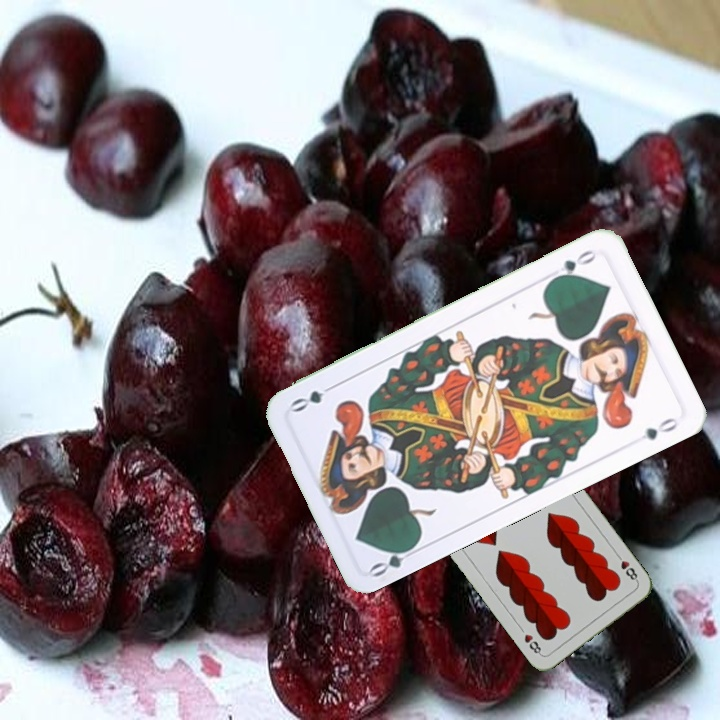GO: (366, 540, 423, 580), (547, 246, 601, 283)
H8: (612, 549, 641, 585)
